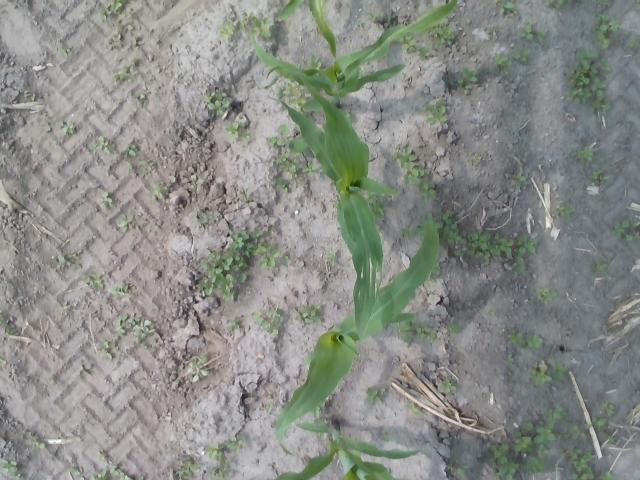Maize: (274, 223, 442, 456), (264, 66, 398, 348), (247, 0, 458, 116), (274, 423, 428, 480), (276, 0, 338, 56)
Weeds: (198, 229, 262, 301), (565, 49, 611, 114), (390, 141, 438, 201), (268, 123, 310, 154), (276, 78, 314, 112), (535, 406, 569, 442), (590, 13, 622, 49), (562, 444, 594, 480), (490, 232, 537, 256), (204, 441, 232, 480), (434, 208, 462, 244), (529, 359, 566, 384), (250, 308, 282, 336), (466, 229, 491, 262), (508, 328, 544, 350), (203, 88, 231, 116), (361, 188, 385, 218), (426, 21, 456, 44), (422, 97, 448, 123), (173, 456, 201, 480), (186, 356, 210, 384), (256, 243, 280, 269), (226, 120, 252, 144), (456, 66, 478, 94), (249, 12, 272, 38), (611, 219, 637, 242), (132, 319, 156, 343), (489, 441, 512, 466), (277, 152, 299, 178), (519, 454, 547, 474), (295, 305, 323, 325), (513, 430, 535, 453), (396, 31, 420, 52), (534, 284, 558, 305), (414, 321, 436, 343), (56, 252, 82, 270), (493, 462, 519, 480), (412, 213, 432, 236), (492, 53, 512, 76), (446, 458, 470, 477), (396, 319, 414, 344), (84, 272, 105, 292), (194, 206, 214, 226), (302, 54, 322, 74), (114, 62, 134, 81), (300, 160, 323, 176), (110, 465, 134, 480), (227, 436, 245, 456), (572, 147, 594, 163), (90, 135, 109, 153), (366, 387, 386, 404), (151, 181, 169, 199), (98, 191, 115, 210), (585, 415, 608, 429), (310, 398, 326, 418), (314, 418, 328, 440), (554, 204, 576, 218), (438, 376, 456, 393), (514, 44, 530, 63), (218, 19, 234, 38), (108, 282, 129, 296), (105, 0, 126, 14), (544, 0, 573, 10), (588, 169, 606, 185), (121, 144, 139, 160), (518, 22, 534, 40), (446, 320, 464, 336), (115, 314, 128, 336), (99, 340, 113, 360), (590, 260, 608, 275), (498, 0, 517, 14), (118, 212, 133, 229), (1, 459, 18, 474), (512, 256, 526, 274), (326, 248, 338, 267), (188, 174, 204, 188), (626, 36, 640, 52), (275, 176, 289, 192), (420, 42, 432, 60), (572, 425, 586, 440), (379, 428, 394, 442), (534, 443, 548, 458), (602, 402, 615, 418), (60, 122, 74, 136), (408, 402, 422, 416), (512, 172, 527, 185), (138, 90, 150, 106), (240, 186, 252, 202), (237, 15, 248, 32), (128, 312, 141, 326), (226, 318, 240, 331), (340, 106, 352, 120), (74, 366, 90, 376), (594, 0, 614, 8), (91, 470, 107, 480), (5, 324, 16, 338), (31, 439, 46, 449), (96, 450, 108, 462), (504, 354, 516, 366), (598, 471, 614, 480), (401, 226, 412, 239), (368, 11, 381, 22), (536, 29, 547, 42), (68, 466, 82, 476), (523, 420, 534, 431), (358, 67, 368, 79), (136, 159, 148, 169), (454, 246, 466, 256), (331, 198, 342, 208), (472, 154, 482, 164), (60, 47, 70, 57), (266, 402, 274, 414), (98, 10, 107, 20), (607, 434, 616, 443), (26, 92, 36, 100), (281, 254, 289, 262), (0, 357, 7, 366), (12, 473, 21, 480), (488, 310, 494, 315), (636, 0, 640, 2)
